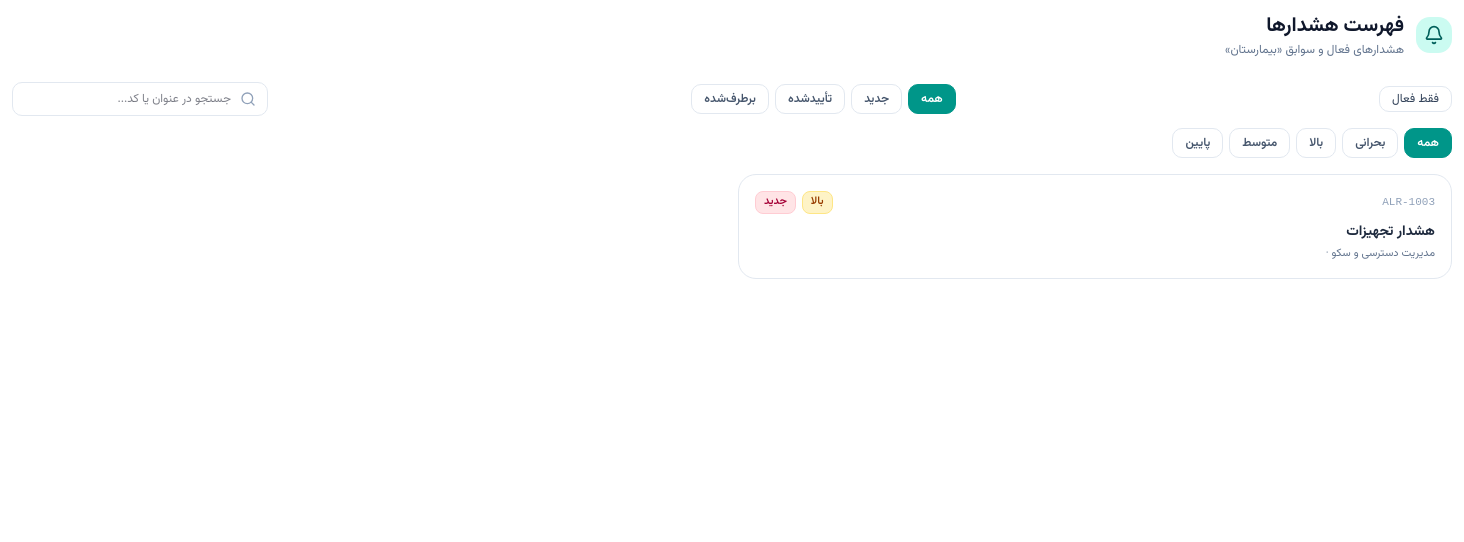
Test case: Work list search reset › clears alert search, status and severity so the original alert returns
Click the button "برطرف‌شده" at (730, 99), box [691, 84, 769, 114]
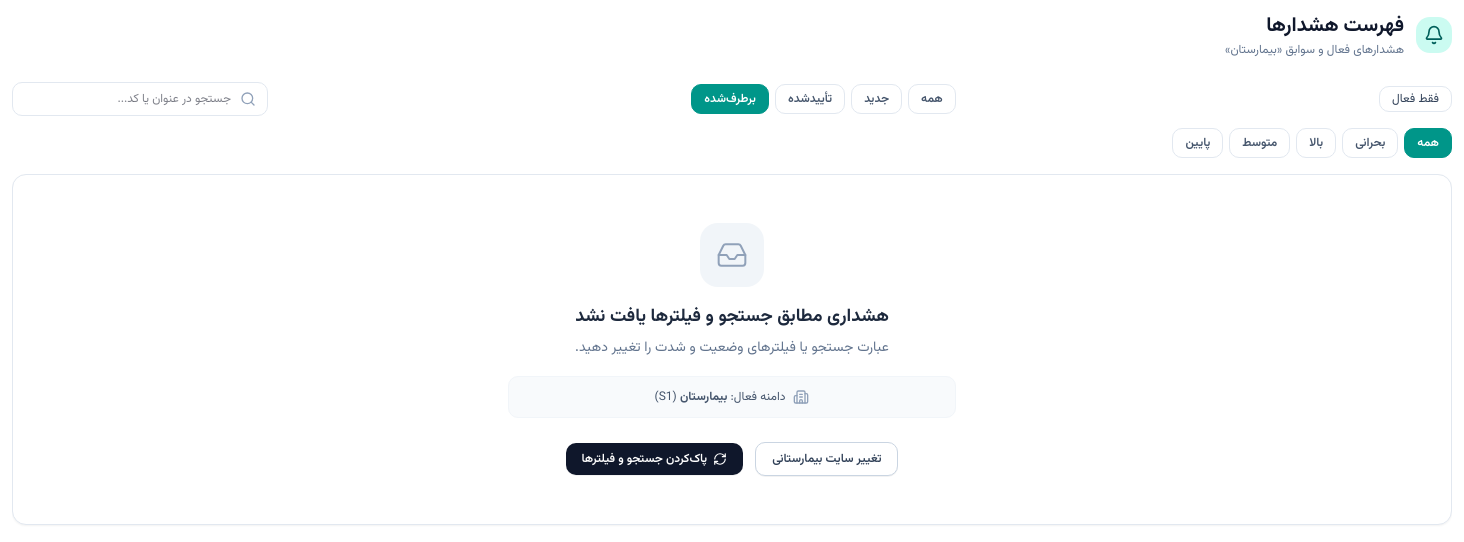
Click the button "پایین" at (1198, 143), box [1172, 128, 1223, 158]
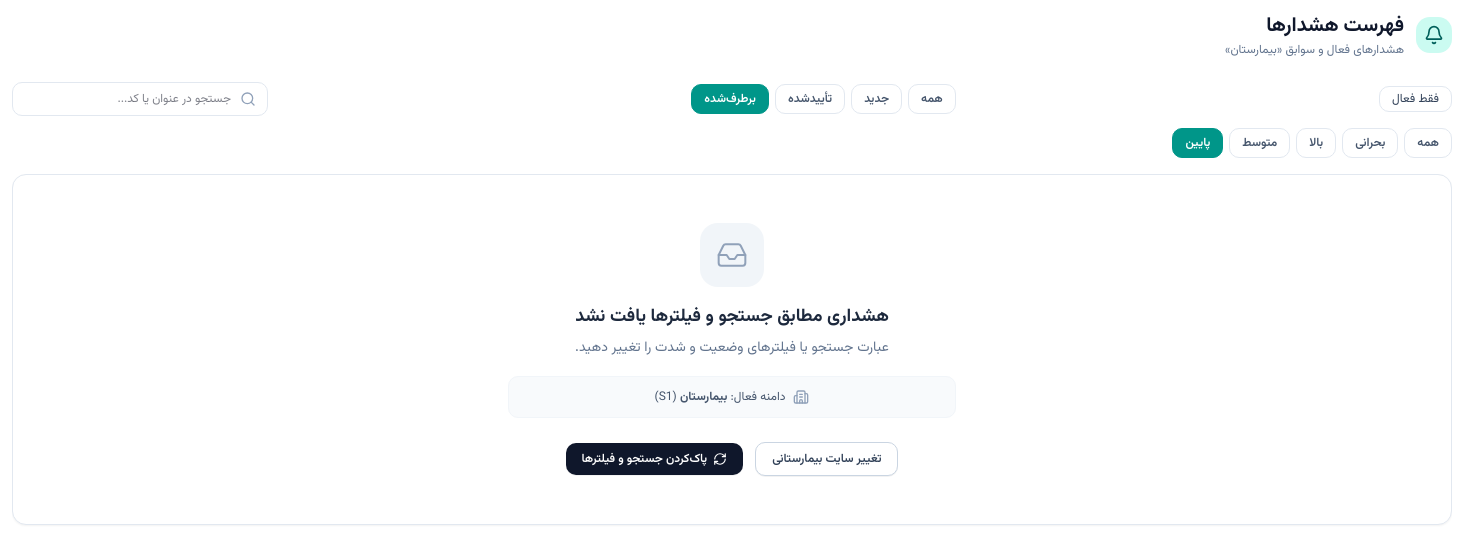
Type "بدون نتیجه" into the field at (140, 99), box [12, 82, 268, 116]
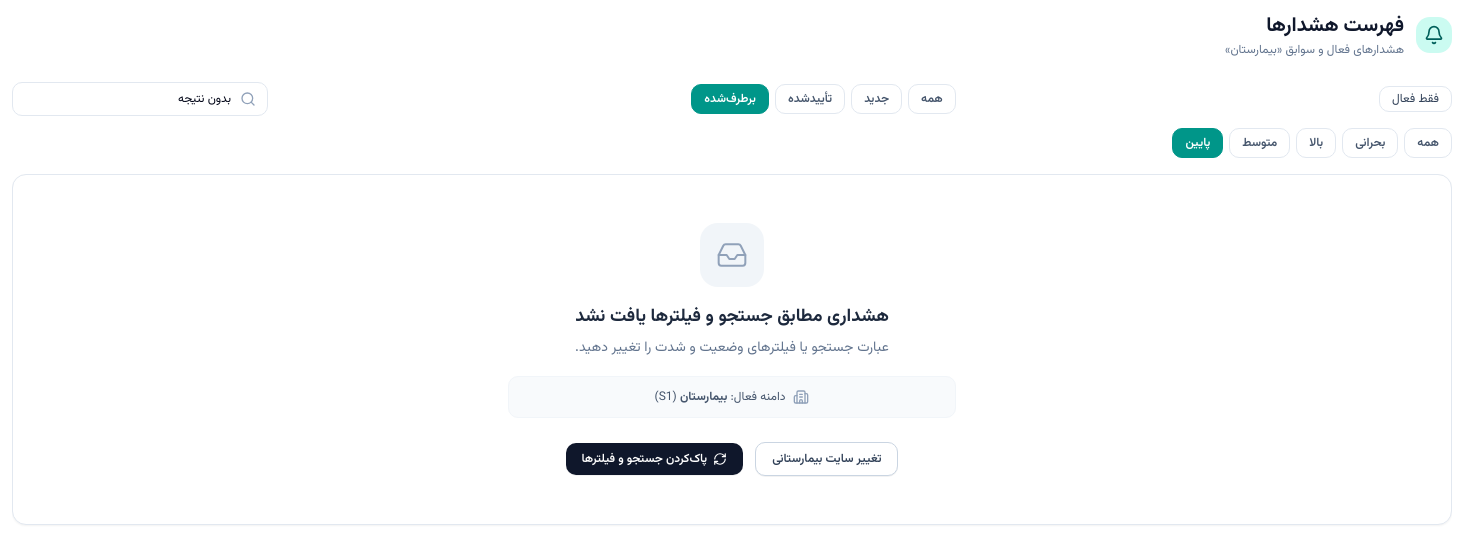
Expected: the button "ALR-1003" is not shown
Click the button "پاک‌کردن جستجو و فیلترها" at (654, 459), box [566, 443, 743, 475]
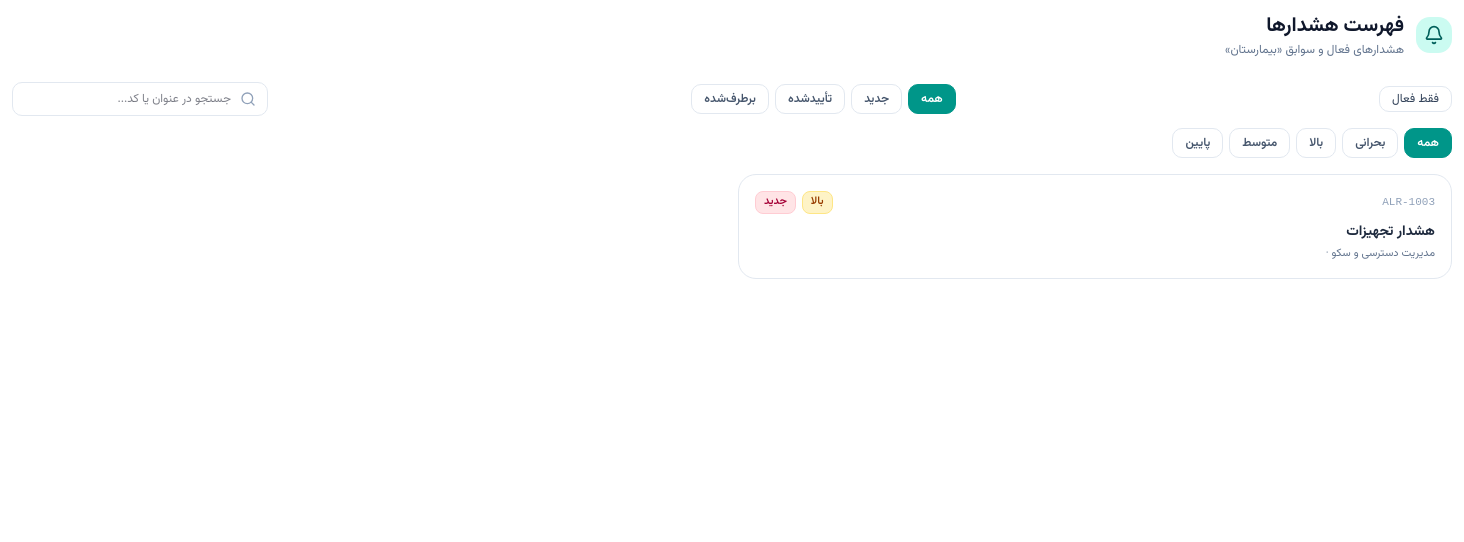
Now the field is empty, box [12, 82, 268, 116]
Now the text "ALR-1003" is shown, box [1382, 194, 1435, 210]
